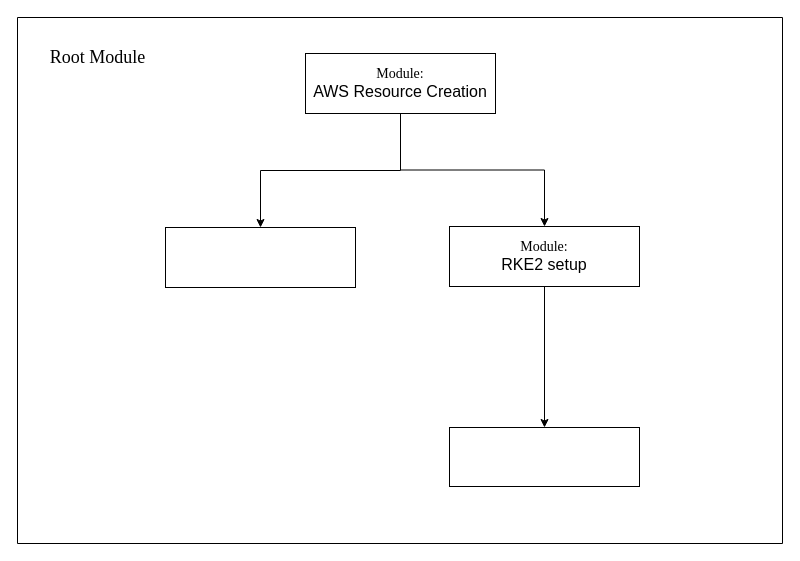
Some shapes in this 800 by 561 pixel diagram are drawn without their labels. The centre of each missing label's shape, as x and y in pixels:
Module: NFS setup: pixel 544 456
Module: NGINX setup: pixel 260 257
